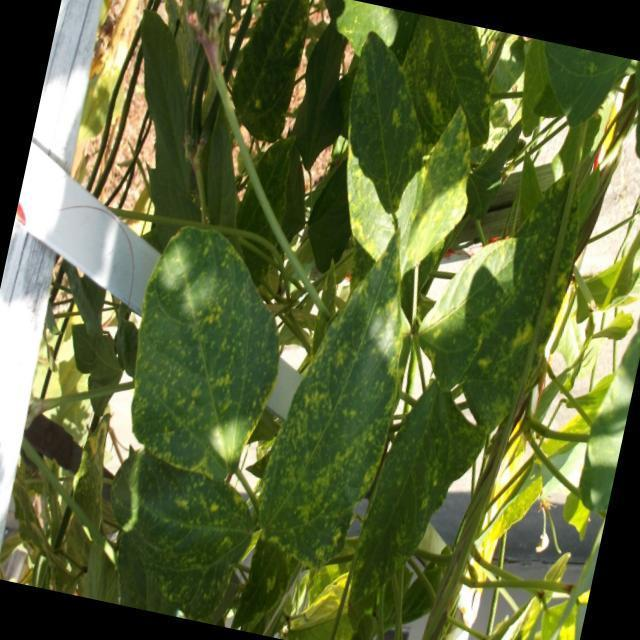Mosaic Virus: (402, 171, 597, 437), (266, 242, 412, 582), (115, 246, 278, 484), (342, 400, 477, 640), (310, 39, 434, 256), (109, 447, 258, 619)
